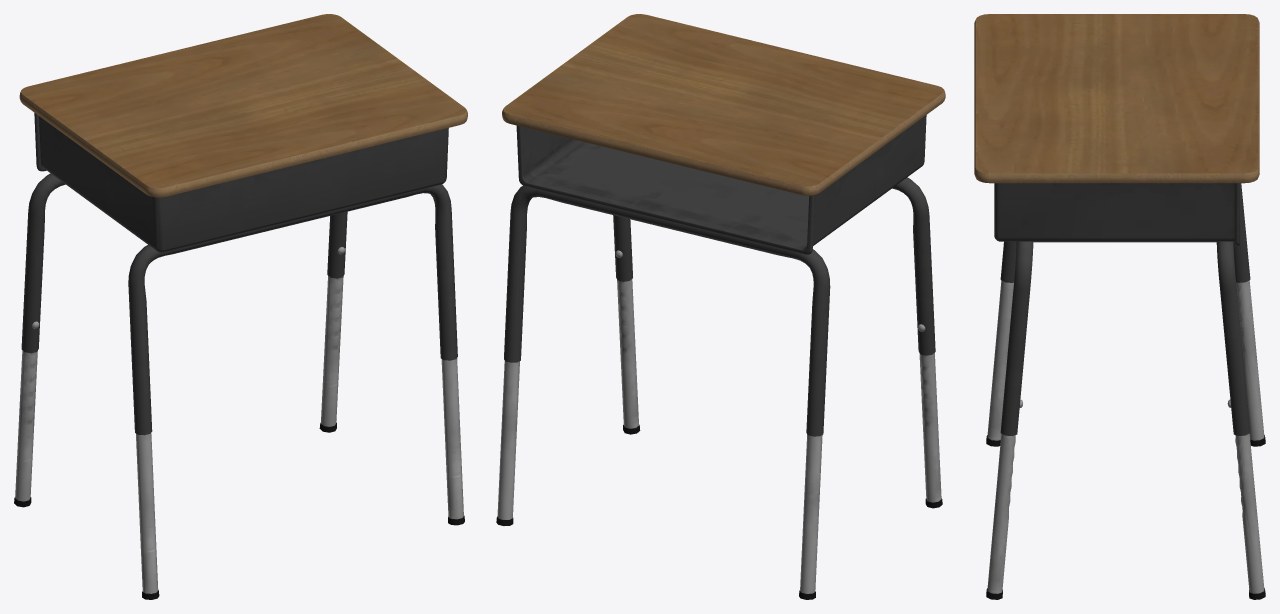
Rendered from SchoolDesk_01.glb.
The picture shows the model from 3 angles, left to right: view 1: azimuth 30°, elevation 25°; view 2: azimuth 150°, elevation 25°; view 3: azimuth 270°, elevation 25°; orthographic projection. The views are drawn at different scales.
Visible parts, largest first — view 1: SchoolDesk_01; view 2: SchoolDesk_01; view 3: SchoolDesk_01.
Part boxes in pixels (bbox=[...]): SchoolDesk_01: bbox=[14, 14, 467, 599]; SchoolDesk_01: bbox=[496, 14, 945, 599]; SchoolDesk_01: bbox=[974, 14, 1265, 599].
Size of the model in its own units: 0.7117 by 0.8826 by 0.546.
1 material, 1 textured.
